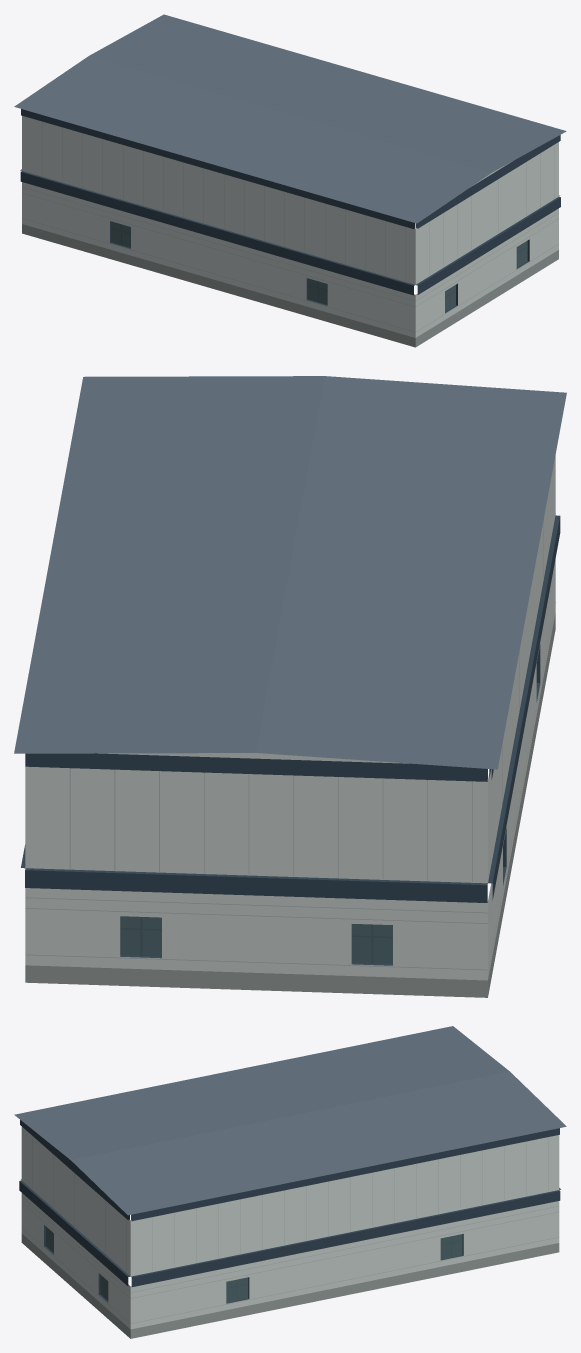
3 renders of one model, top to bottom at view 1: azimuth 30°, elevation 25°; view 2: azimuth 150°, elevation 25°; view 3: azimuth 270°, elevation 25°, orthographic. The views are drawn at different scales.
Visible parts, largest first — view 1: hall2__roof-metal, hall2__wall-plaster, hall2__trim-concrete, hall2__base-stone, hall2__hall-panel-joint, hall2__glass; view 2: hall2__roof-metal, hall2__wall-plaster, hall2__trim-concrete, hall2__base-stone, hall2__hall-panel-joint, hall2__glass; view 3: hall2__roof-metal, hall2__wall-plaster, hall2__trim-concrete, hall2__base-stone, hall2__hall-panel-joint, hall2__glass.
Boxes of the visible parts, left/top/right/bottom form: hall2__roof-metal: left=14, top=14, right=566, bottom=223; hall2__wall-plaster: left=22, top=115, right=558, bottom=337; hall2__trim-concrete: left=20, top=109, right=560, bottom=313; hall2__base-stone: left=22, top=224, right=558, bottom=347; hall2__hall-panel-joint: left=22, top=122, right=558, bottom=332; hall2__glass: left=111, top=221, right=527, bottom=311; hall2__roof-metal: left=14, top=376, right=566, bottom=769; hall2__wall-plaster: left=25, top=455, right=555, bottom=980; hall2__trim-concrete: left=21, top=515, right=560, bottom=965; hall2__base-stone: left=25, top=613, right=555, bottom=997; hall2__hall-panel-joint: left=25, top=519, right=555, bottom=970; hall2__glass: left=120, top=916, right=392, bottom=963; hall2__roof-metal: left=14, top=1026, right=566, bottom=1215; hall2__wall-plaster: left=21, top=1126, right=559, bottom=1329; hall2__trim-concrete: left=19, top=1120, right=560, bottom=1303; hall2__base-stone: left=21, top=1233, right=559, bottom=1338; hall2__hall-panel-joint: left=22, top=1136, right=558, bottom=1323; hall2__glass: left=46, top=1226, right=462, bottom=1302.
Bounding box in the file's own units: 38.58 × 12.5 × 47.61.
